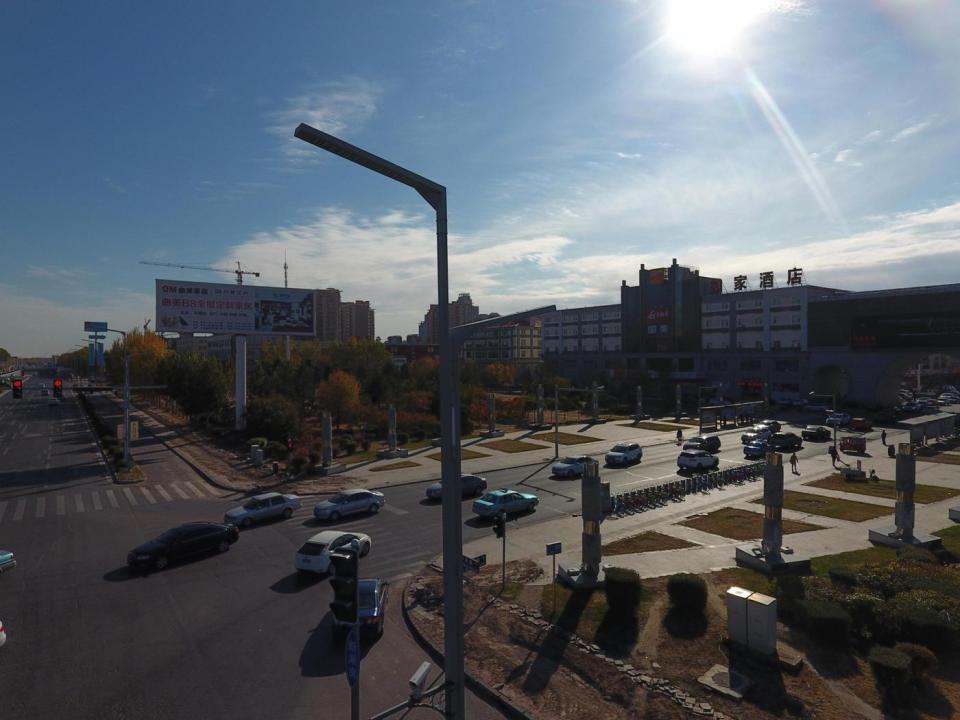car: (126, 522, 239, 570), (294, 530, 372, 576), (334, 578, 389, 638), (223, 492, 301, 527), (313, 489, 386, 522), (471, 487, 540, 518), (426, 475, 487, 501), (550, 456, 598, 478), (677, 447, 719, 470), (604, 442, 643, 465), (682, 436, 720, 452), (744, 441, 776, 458), (770, 432, 802, 449), (742, 426, 772, 442), (802, 426, 831, 441), (755, 420, 781, 433), (849, 418, 874, 431), (872, 412, 896, 425), (827, 413, 850, 425), (889, 392, 912, 403), (902, 400, 921, 413), (803, 402, 831, 410), (840, 400, 866, 408), (708, 398, 732, 406), (920, 406, 941, 415), (890, 390, 911, 399), (734, 400, 757, 408), (880, 406, 900, 415), (866, 403, 887, 410), (778, 397, 794, 406), (938, 393, 954, 402), (925, 399, 938, 409), (886, 396, 902, 404), (934, 398, 950, 406), (646, 395, 664, 402), (918, 397, 932, 405), (47, 398, 60, 406), (947, 397, 960, 404), (794, 399, 809, 405), (948, 391, 959, 398), (40, 389, 50, 395), (59, 394, 66, 400), (38, 383, 44, 388), (5, 377, 10, 380), (10, 376, 14, 379), (0, 379, 3, 383), (11, 374, 14, 376)
truck: (918, 389, 940, 400), (88, 376, 107, 383)
